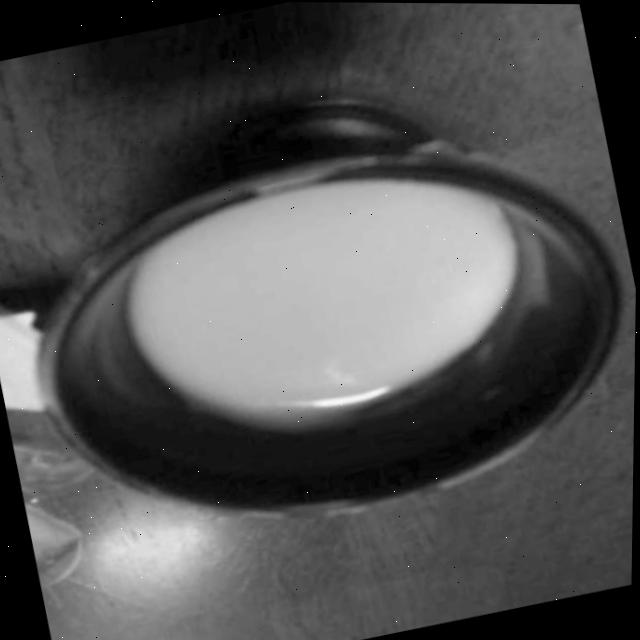汉堡快餐: (0, 0, 622, 571)
